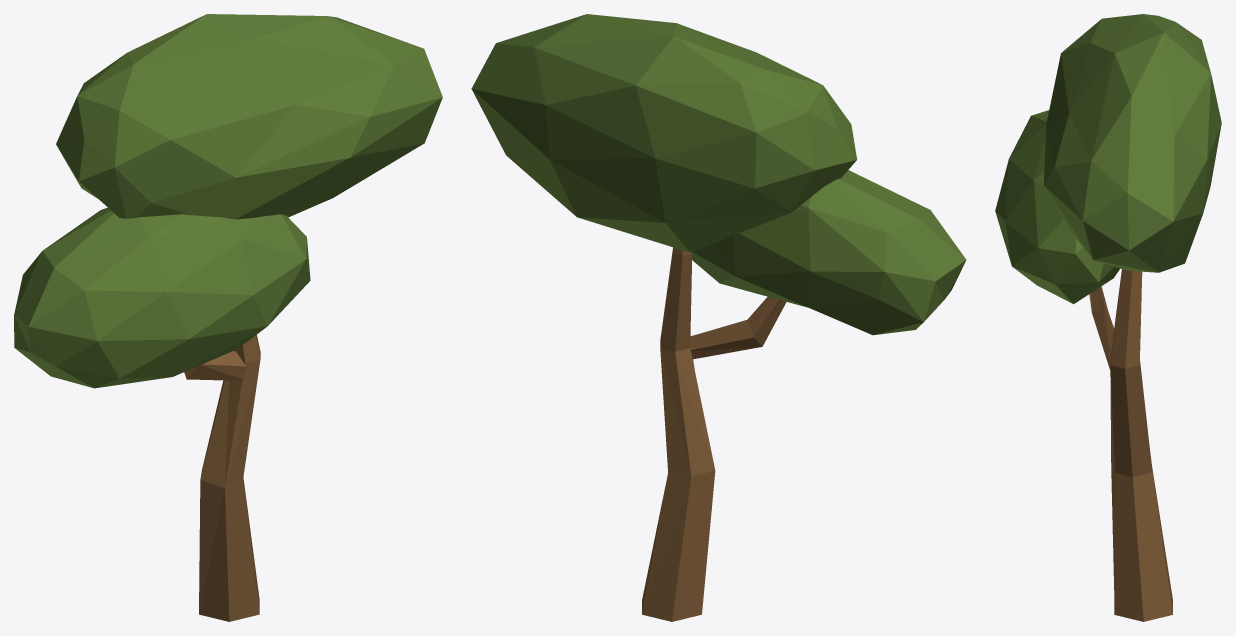
Rendered from Tree_5_3.FBX.
3 views of the same model, side by side, from view 1: azimuth 30°, elevation 25°; view 2: azimuth 150°, elevation 25°; view 3: azimuth 270°, elevation 25° (orthographic). The views are drawn at different scales.
Visible parts, largest first — view 1: Tree_5_3; view 2: Tree_5_3; view 3: Tree_5_3.
Part boxes in pixels (<box>): Tree_5_3: <box>14,14,442,621</box>; Tree_5_3: <box>471,14,966,621</box>; Tree_5_3: <box>995,14,1221,621</box>.
Size of the model in its own units: 166 by 208 by 74.87.
Materials: 1 (1 with a texture image).
